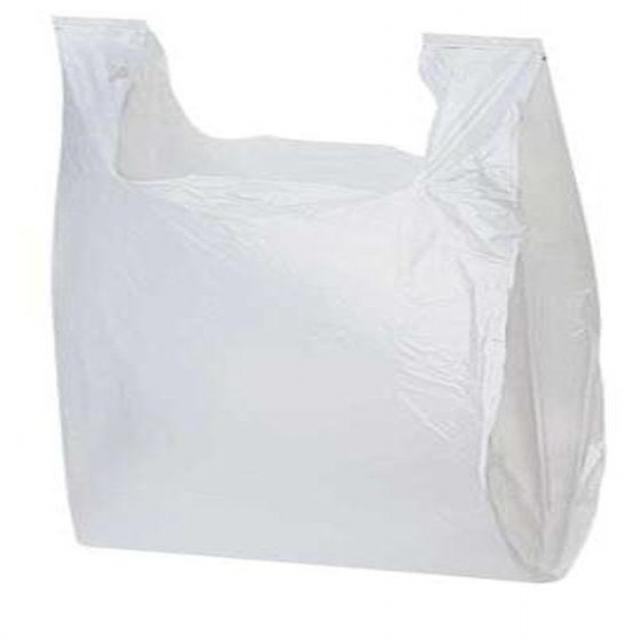plastic_bag: (21, 8, 612, 598)
